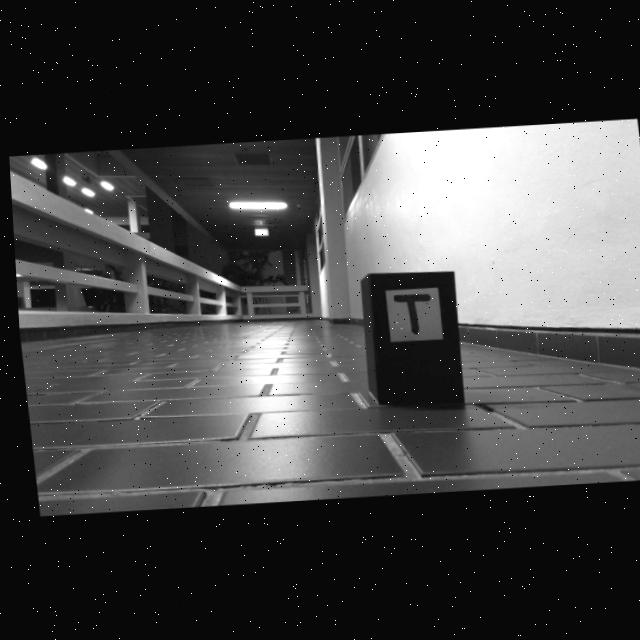T: (391, 295, 428, 334)
